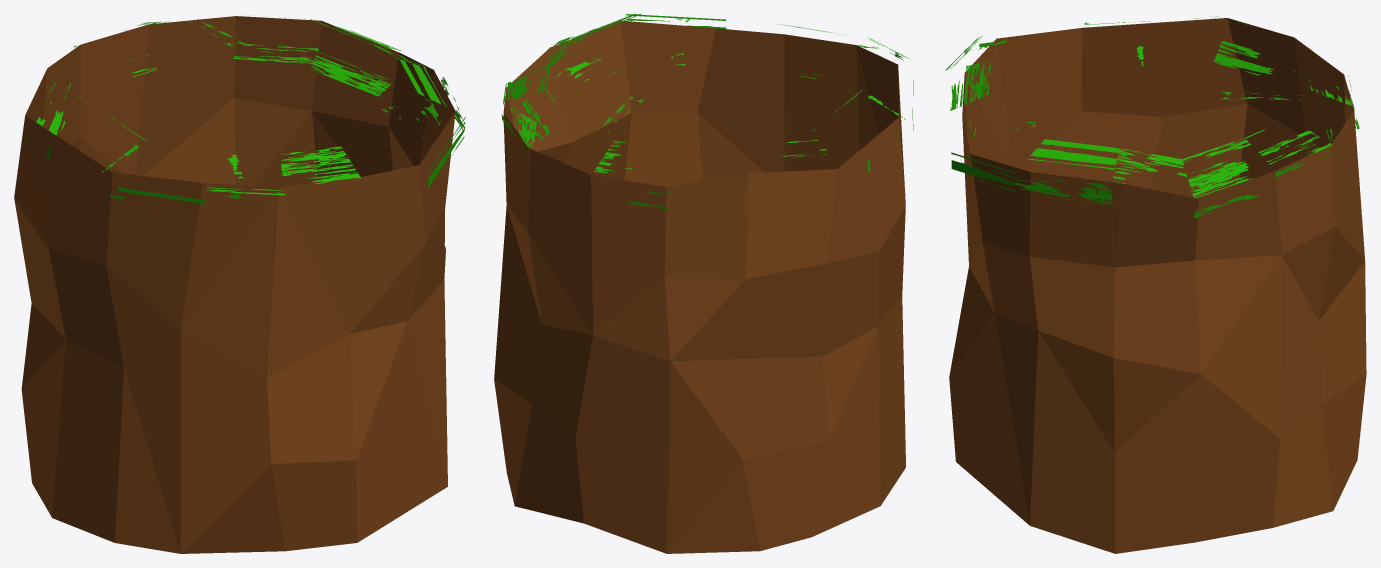
The model's file is Hill.fbx.
3 renders of one model, left to right at view 1: azimuth 30°, elevation 25°; view 2: azimuth 150°, elevation 25°; view 3: azimuth 270°, elevation 25°, orthographic. The views are drawn at different scales.
Visible parts, largest first — view 1: Hill; view 2: Hill; view 3: Hill.
Part boxes in pixels (<box>): Hill: <box>14,14,465,553</box>; Hill: <box>494,14,913,553</box>; Hill: <box>945,16,1366,553</box>.
Size of the model in its own units: 1756 by 1856 by 1811.
